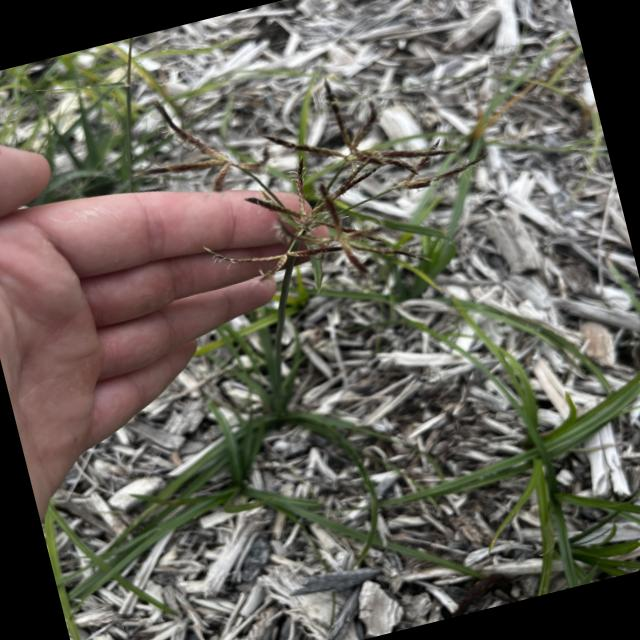cyperus: (150, 24, 512, 362)
